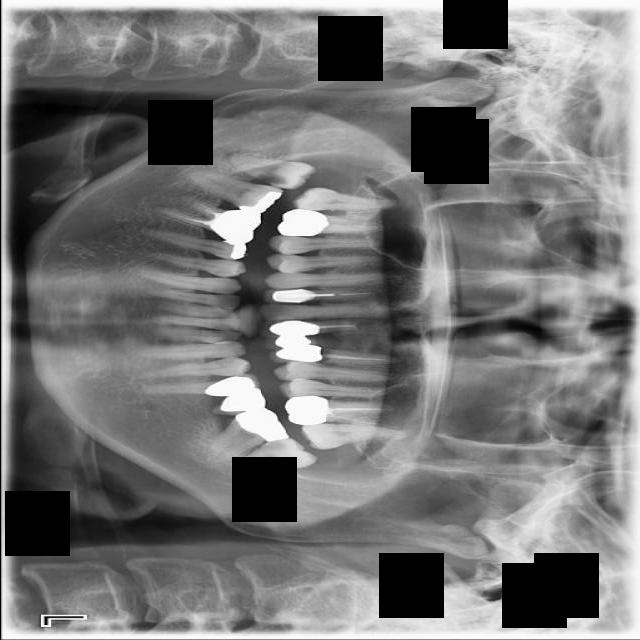52: (198, 362, 288, 463), (257, 316, 326, 368), (228, 171, 286, 225), (256, 157, 319, 193), (208, 208, 262, 246), (275, 209, 328, 237), (284, 396, 328, 427), (207, 239, 247, 262), (265, 287, 315, 304), (256, 170, 289, 187)
73: (150, 185, 228, 236), (324, 397, 412, 434), (319, 346, 405, 374), (315, 211, 385, 235), (309, 318, 363, 335), (308, 289, 379, 301), (36, 600, 58, 616)
BioHorizons Implant: (297, 423, 410, 450)
Biomet 3i Implant: (225, 427, 320, 489)
Blue Sky Bio Implant: (192, 399, 290, 468)
Caries: (291, 187, 399, 213)
Implant: (180, 166, 284, 221)
Keystone Dental Implant: (222, 151, 318, 194)
